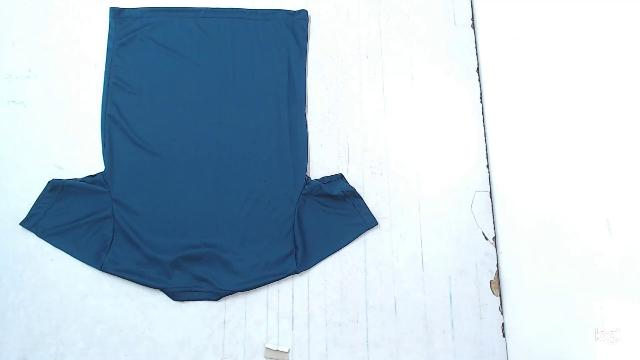new-garment: (20, 7, 377, 301)
